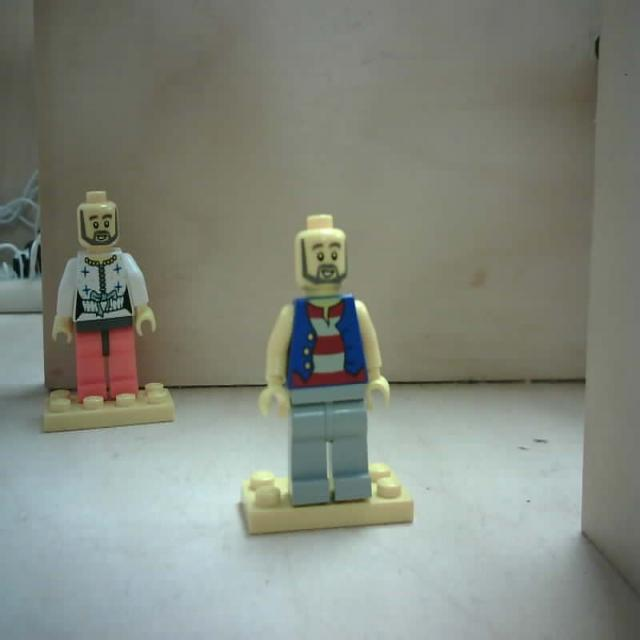Lego-People: (241, 212, 415, 537), (43, 190, 172, 436)
